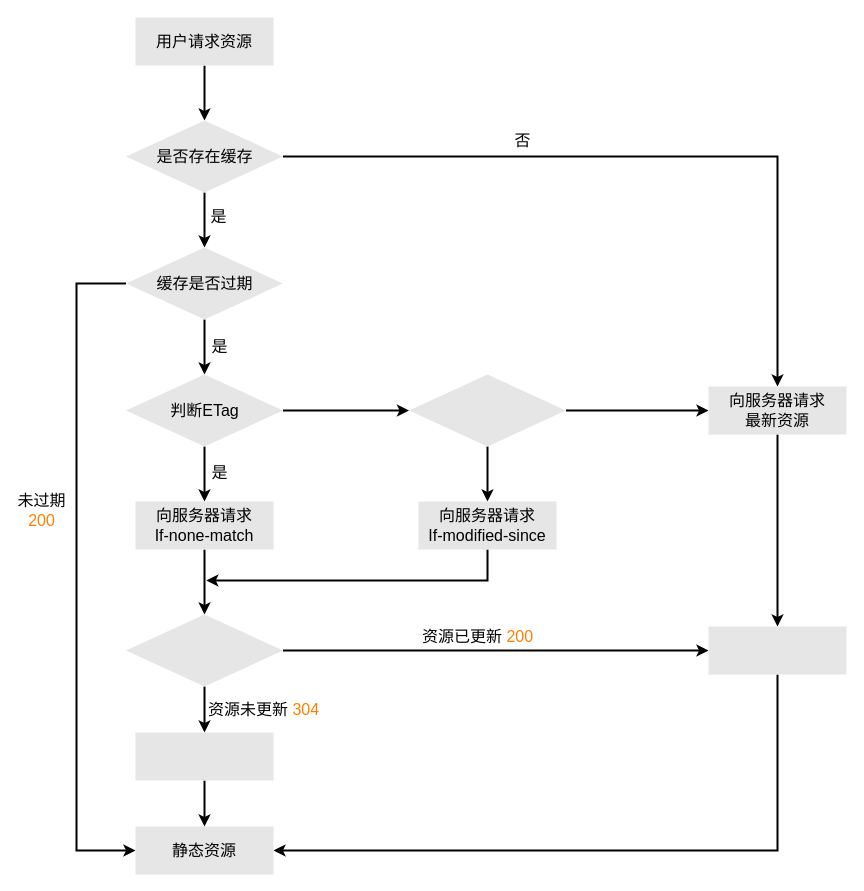
Some shapes in this 864 by 891 pixel diagram are drawn without their labels. Each missing label, with the centre of its shape:
判断Last-modified: the point at 487,410
服务器返回 200 / 304: the point at 204,650
获取响应: the point at 777,650
读取本地缓存: the point at 204,756
